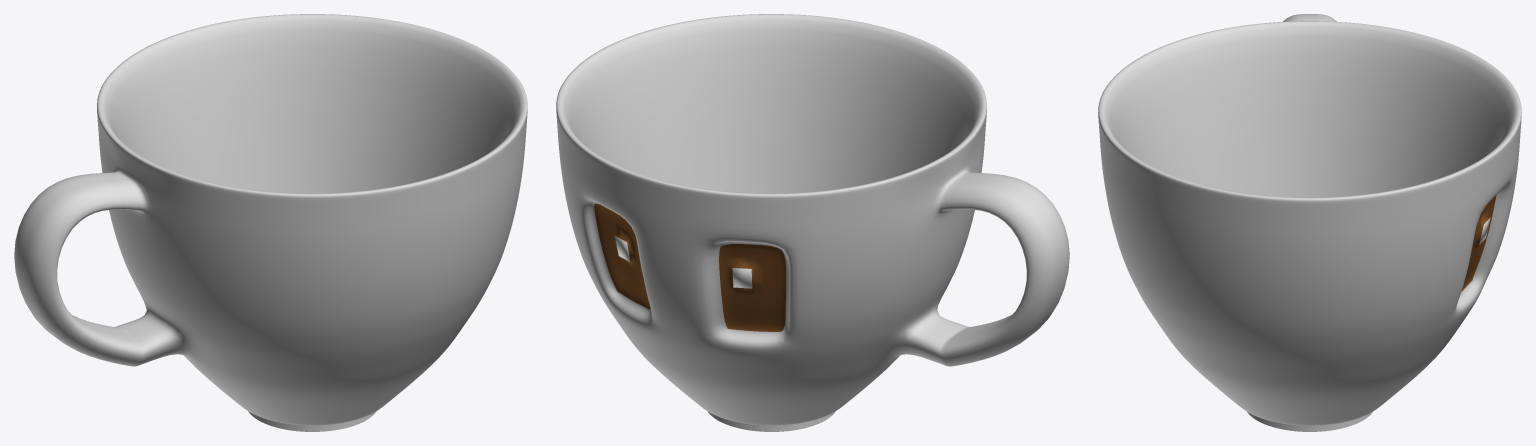
Rendered from Enemy.fbx.
3 views of the same model, side by side, from view 1: azimuth 30°, elevation 25°; view 2: azimuth 150°, elevation 25°; view 3: azimuth 270°, elevation 25° (orthographic).
Visible parts, largest first — view 1: 円柱; view 2: 円柱; view 3: 円柱.
Boxes of the visible parts, box(x1,y1,x2,y2) form: 円柱: box(14, 14, 527, 431); 円柱: box(556, 14, 1069, 431); 円柱: box(1098, 14, 1521, 431).
Size of the model in its own units: 304 by 182 by 238.
